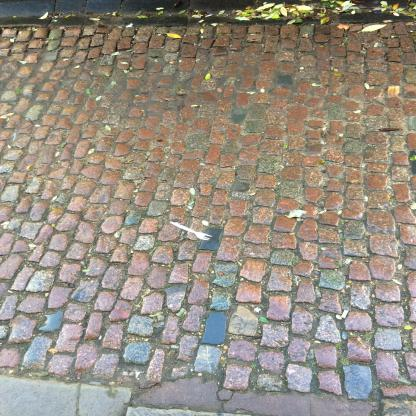plastik: (169, 221, 213, 241)
